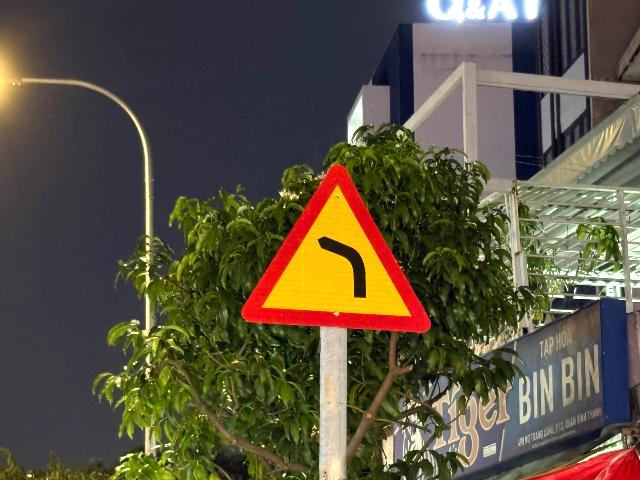cho-ngoat-nguy-hiem-ben-trai: (241, 163, 431, 332)
